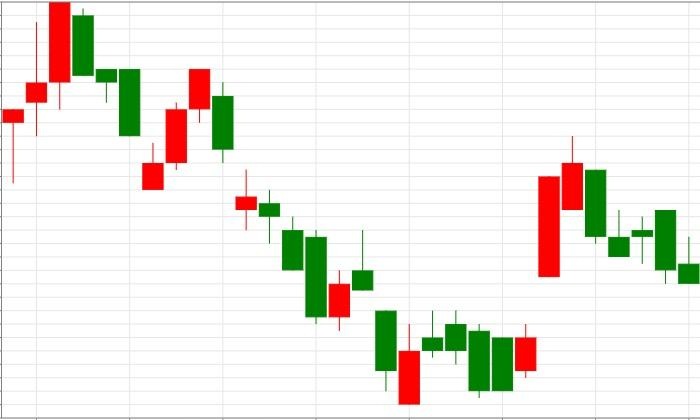three_white_soldiers_rise: (72, 8, 210, 190)
